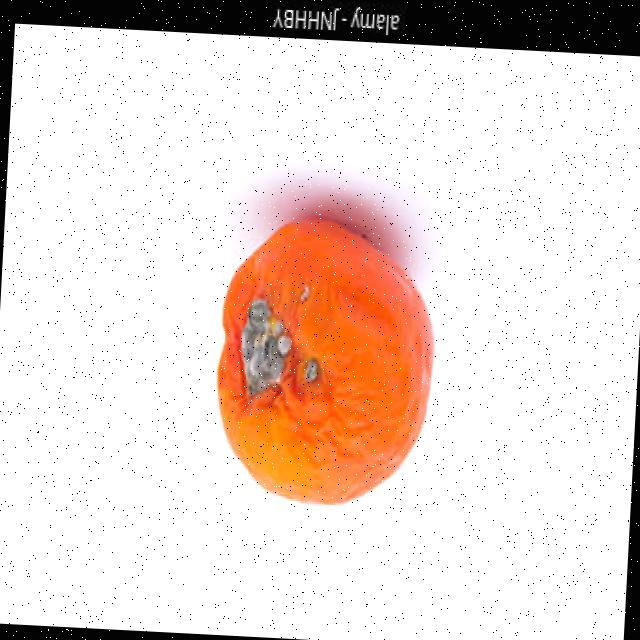Rotten: (212, 214, 442, 514)
